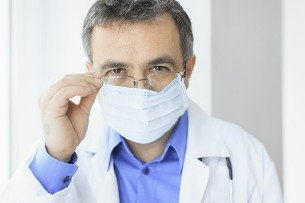Mask: (92, 53, 182, 143)
